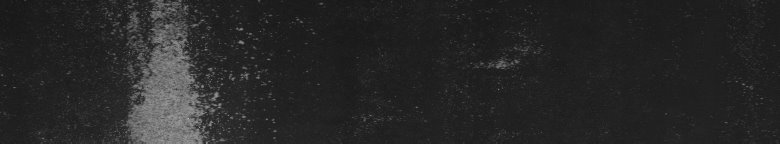kb: (124, 4, 204, 136)
